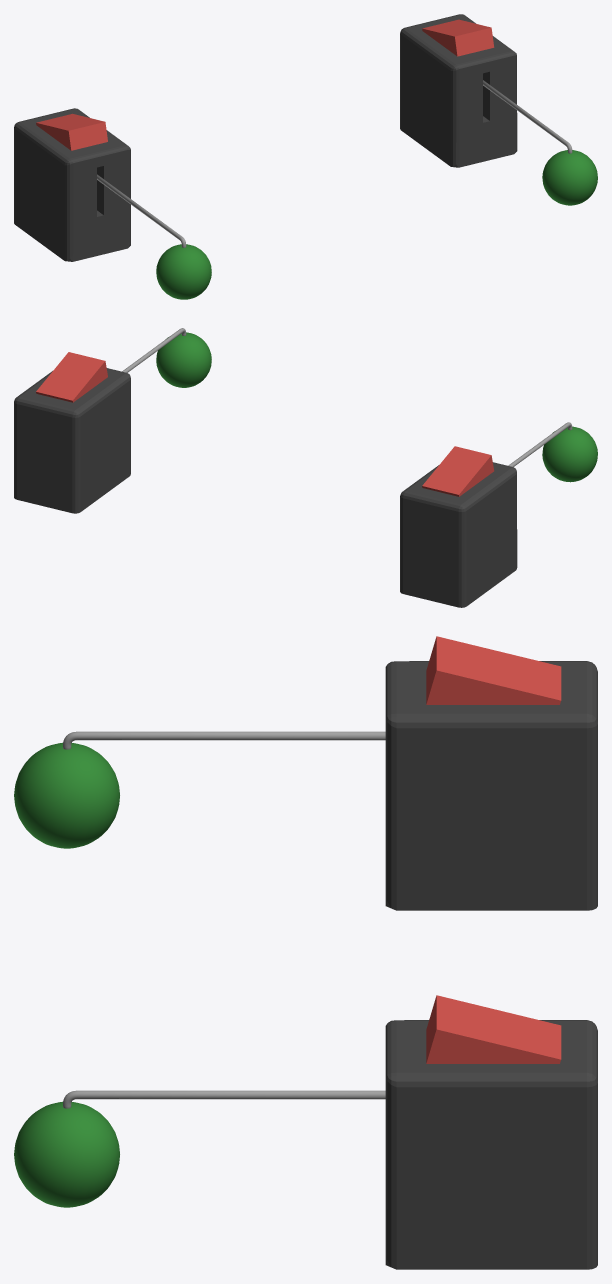
File: waveGenerators.glb
3 renders of one model, top to bottom at view 1: azimuth 30°, elevation 25°; view 2: azimuth 150°, elevation 25°; view 3: azimuth 270°, elevation 25°, orthographic. The views are drawn at different scales.
Visible parts, largest first — view 1: switchBox1, switchBox2, ball2, ball1, switch1, switch2; view 2: switchBox2, switchBox1, ball1, ball2, switch1, switch2; view 3: switchBox2, switchBox1, ball2, ball1, switch1, switch2.
Boxes of the visible parts, <box> form: switchBox1: <box>400,14,517,167</box>; switchBox2: <box>14,108,130,261</box>; ball2: <box>97,174,211,299</box>; ball1: <box>483,80,597,205</box>; switch1: <box>422,19,494,56</box>; switch2: <box>36,113,107,150</box>; switchBox2: <box>400,462,517,607</box>; switchBox1: <box>14,368,130,513</box>; ball1: <box>122,328,211,387</box>; ball2: <box>508,422,597,482</box>; switch1: <box>36,352,107,402</box>; switch2: <box>422,446,494,496</box>; switchBox2: <box>385,661,597,910</box>; switchBox1: <box>385,1020,597,1269</box>; ball2: <box>14,731,385,848</box>; ball1: <box>14,1090,385,1207</box>; switch1: <box>426,995,561,1063</box>; switch2: <box>426,636,561,704</box>.
Size of the model in its own units: 4.68 by 1.18 by 2.75.
